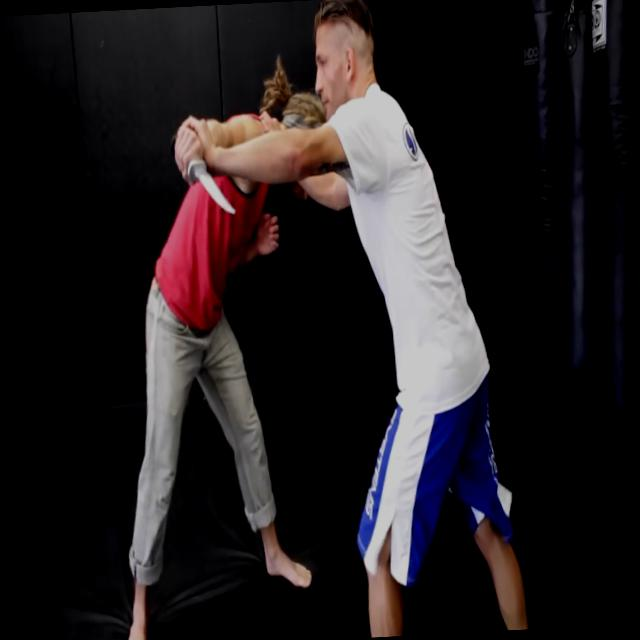knife: (166, 123, 241, 229)
